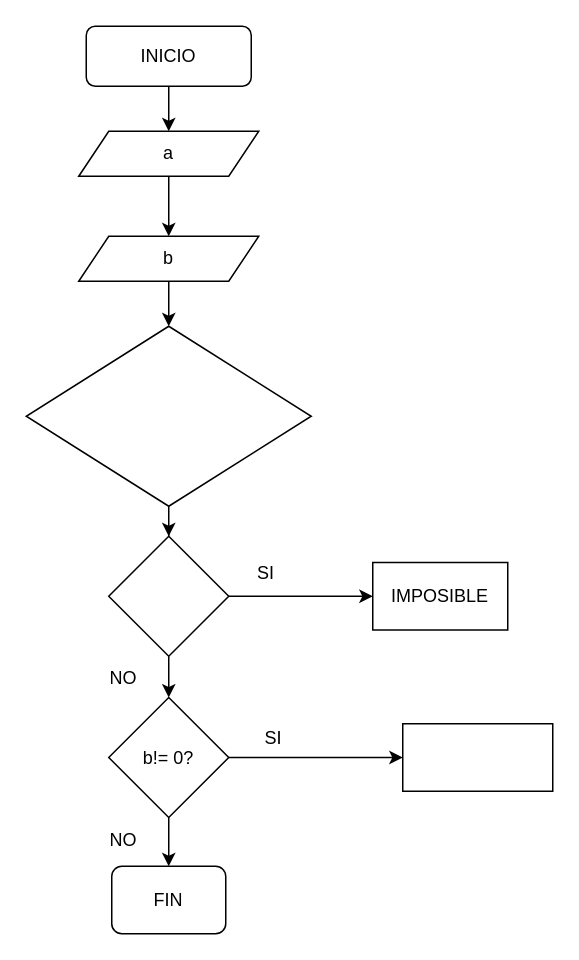
Some shapes in this 579 by 960 pixel diagram are drawn without their labels. Each missing label, with the box of its shape:
A y B estan en el rango de 0 a 1,000,000 ?: (25, 325, 311, 506)
a/b: (401, 722, 553, 791)
b==0 ?: (107, 535, 229, 656)
